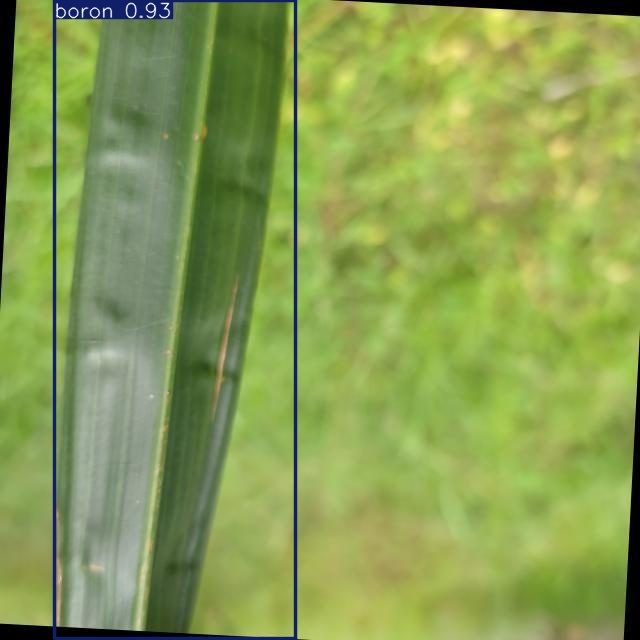nitrogen: (54, 0, 295, 639)
